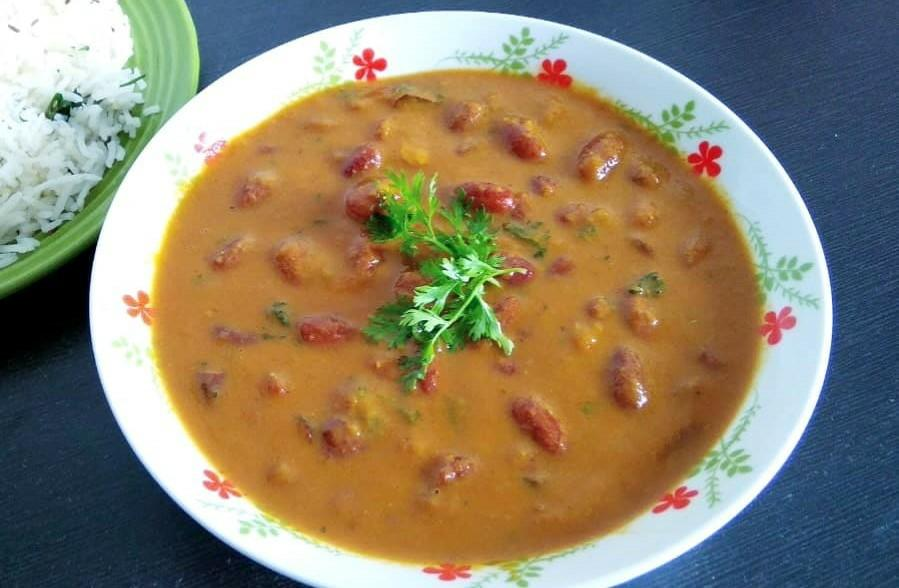RajmaCurry: (149, 68, 769, 562)
WhiteRice: (0, 0, 147, 272)
